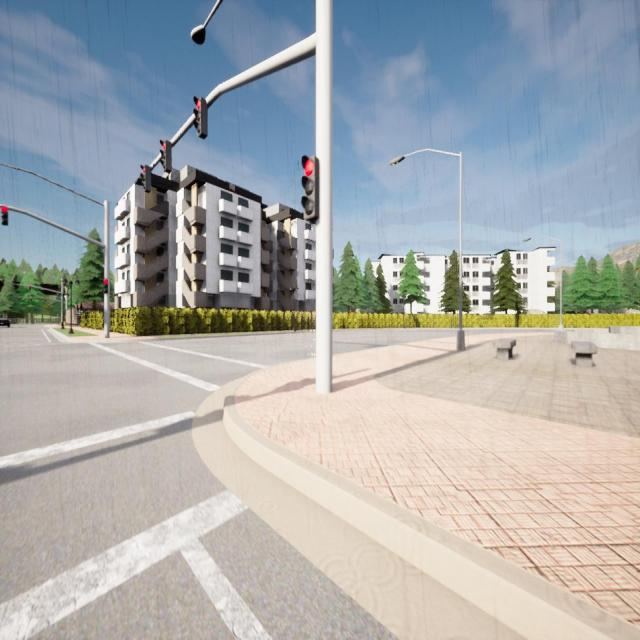Vehicle: (0, 318, 10, 328)
traffic_light: (301, 155, 319, 222), (194, 96, 208, 138), (160, 139, 172, 173), (140, 165, 151, 193), (1, 206, 8, 226), (104, 279, 108, 294), (29, 285, 31, 291), (18, 297, 20, 301), (44, 298, 46, 302), (31, 297, 32, 301)
